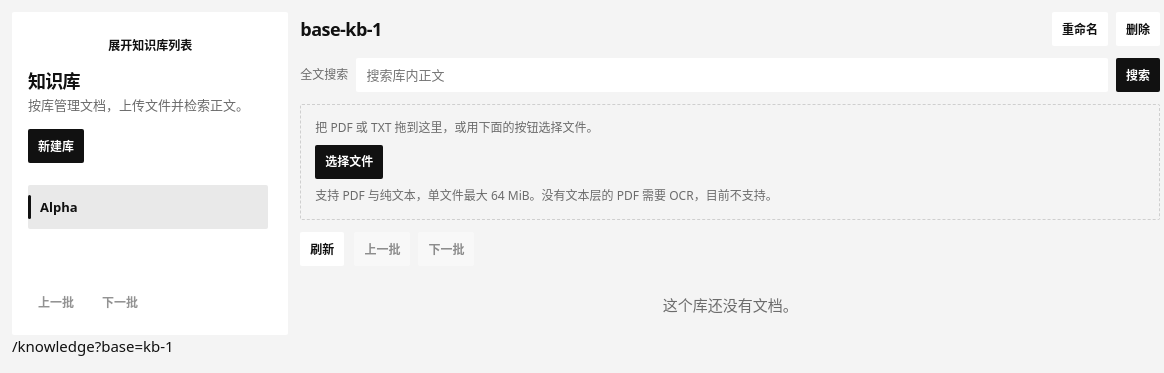
Test: KnowledgePage › opens a search hit with its citation
This screenshot has width=1164, height=373.
Type "needle" into the search field labelled "全文搜索" at [732, 75], box x1=356 y1=58 x2=1108 y2=92
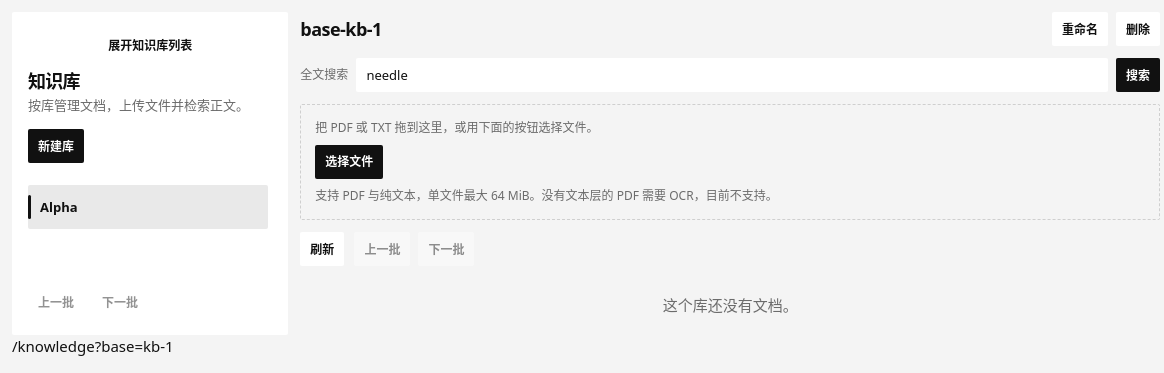
Click the button "搜索" at [1138, 75], box x1=1116 y1=58 x2=1160 y2=92
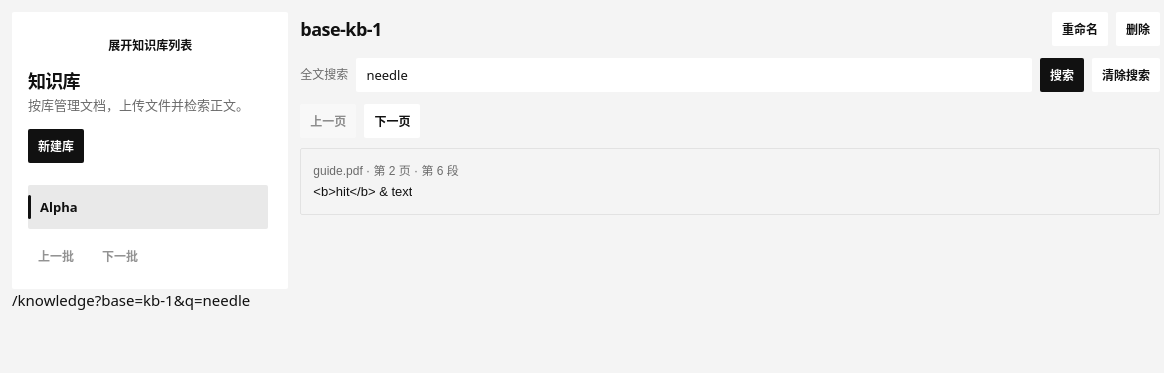
Expected: the text "<b>hit</b> & text" is shown, x1=313 y1=182 x2=412 y2=202
Click the button "下一页" at [392, 121], box x1=364 y1=104 x2=420 y2=138
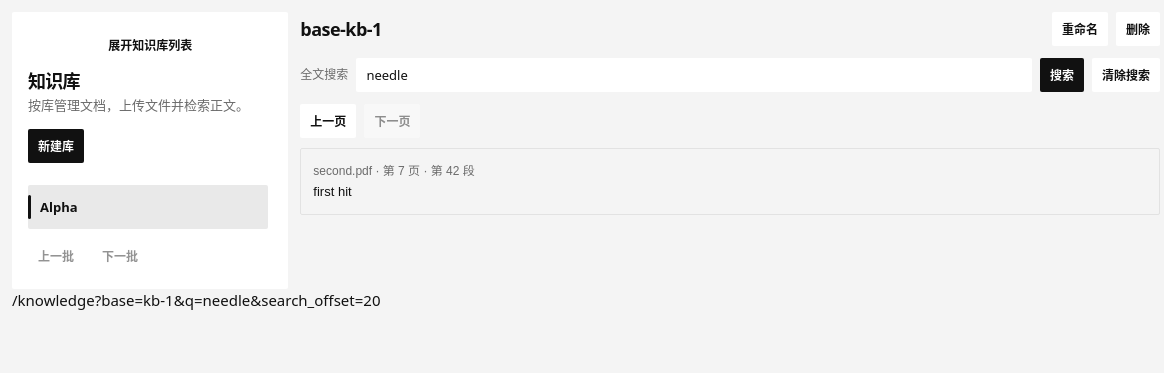
Click the text "second.pdf · 第 7 页 · 第 42 段" at [394, 170], box x1=313 y1=161 x2=475 y2=178
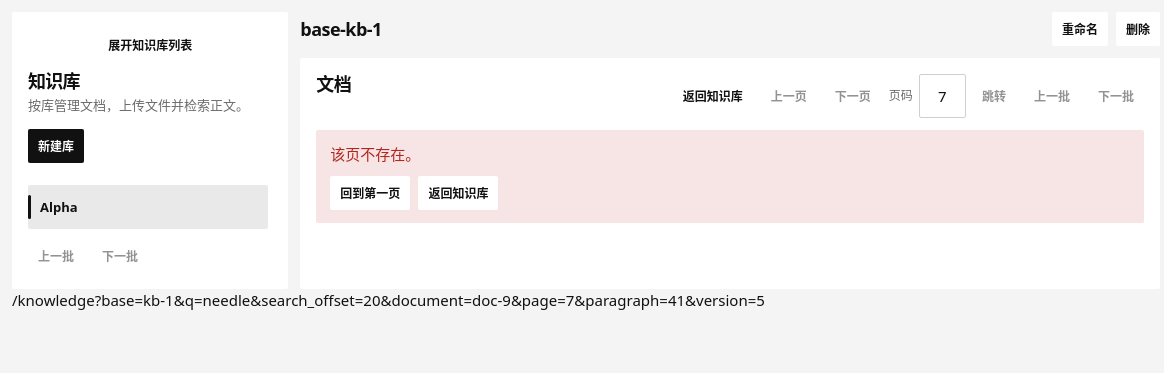
Expected: the text with test id "location" shows "document=doc-9", x1=12 y1=290 x2=765 y2=310
Expected: the text with test id "location" shows "page=7", x1=12 y1=290 x2=765 y2=310
Expected: the text with test id "location" shows "paragraph=41", x1=12 y1=290 x2=765 y2=310
